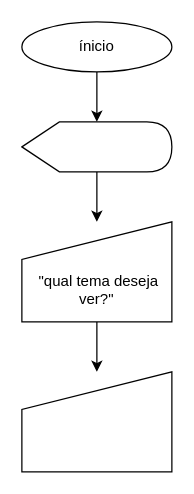
Some shapes in this 194 by 494 pixel diagram are drawn without their labels. Here are the shapes that lost their labels. From the top down, the box of each, then its label:
(21, 121, 172, 172): "seja bem vindo(a)"
(21, 371, 172, 472): "Selecione os tipos de ingresso"
